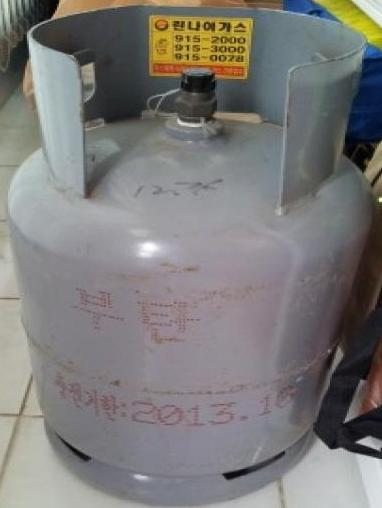cylinder: (1, 1, 382, 508)
